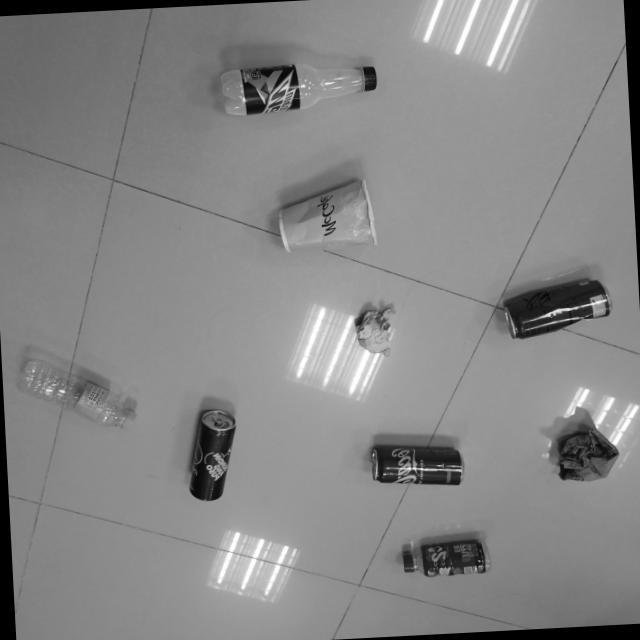recyclable waste: (10, 349, 144, 442), (214, 54, 388, 124), (272, 174, 382, 260), (498, 274, 618, 348), (180, 405, 243, 508), (367, 438, 470, 497), (396, 534, 496, 584), (550, 422, 624, 488), (350, 302, 402, 363)
